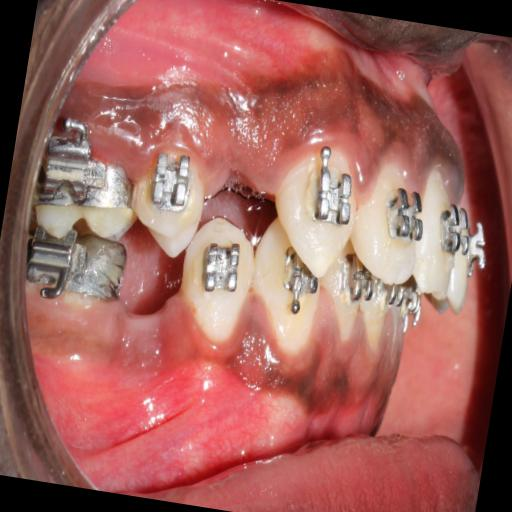correct_brace: (124, 146, 212, 262), (306, 159, 360, 236), (384, 176, 430, 247)
incorrect_brace: (351, 150, 434, 276), (143, 150, 194, 214)
